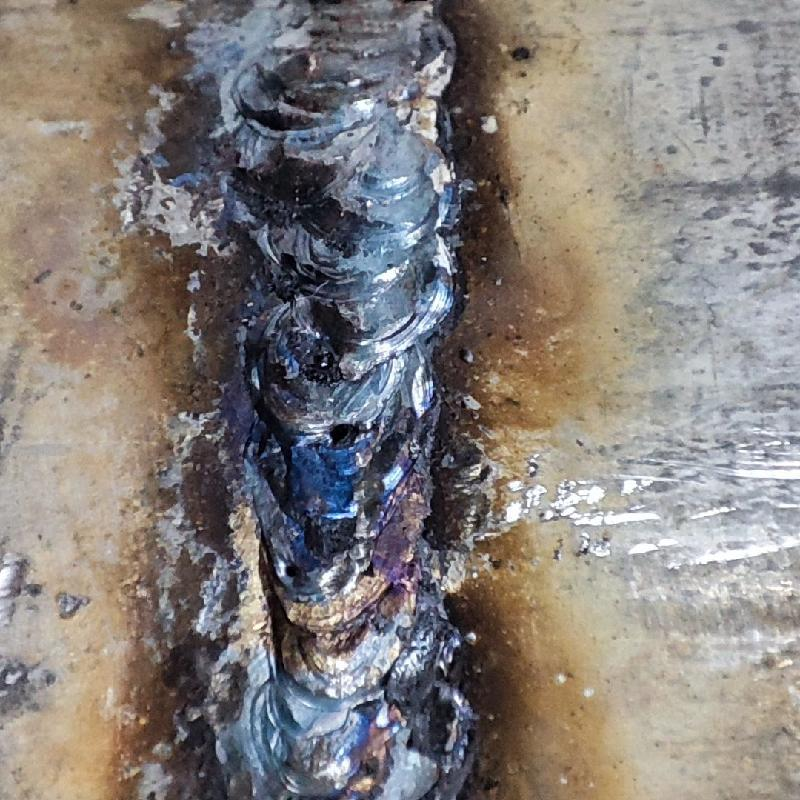Surface_pores: (314, 409, 367, 451), (273, 546, 317, 591)
